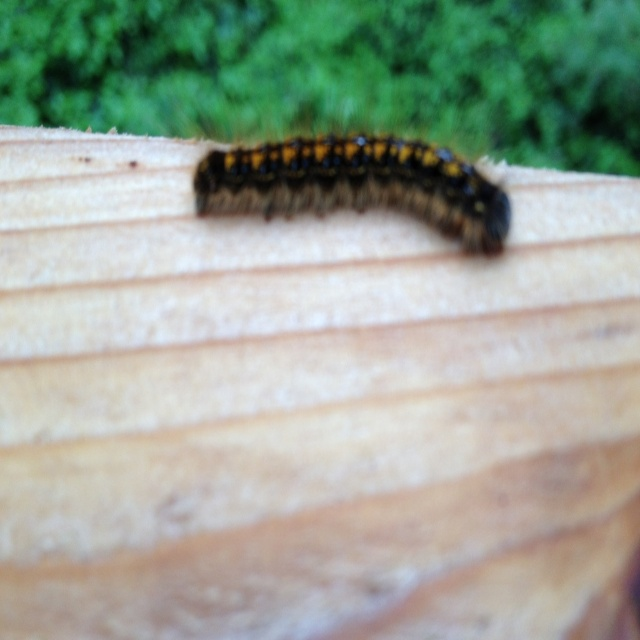Caterpillar: (192, 102, 513, 259)
